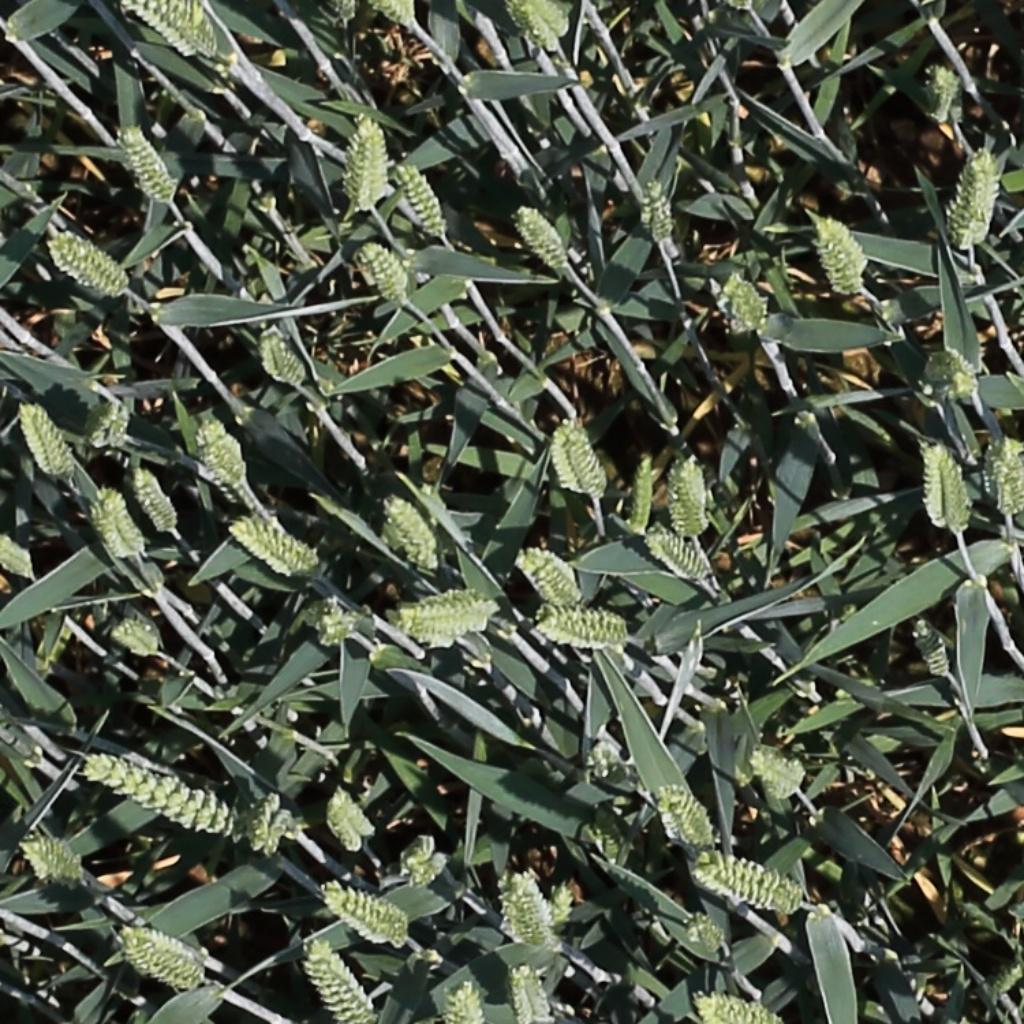0-0: (95, 757, 241, 839), (518, 551, 619, 648), (126, 0, 238, 68), (122, 929, 218, 994), (307, 937, 374, 1024), (197, 416, 260, 505), (549, 407, 608, 501), (393, 152, 451, 241), (118, 118, 177, 204), (230, 520, 316, 574), (51, 233, 128, 293), (925, 440, 973, 536), (697, 866, 801, 910), (514, 200, 576, 273), (509, 869, 560, 956), (660, 783, 720, 856), (16, 397, 66, 483), (357, 234, 415, 308), (324, 888, 408, 939), (379, 496, 439, 567), (813, 215, 866, 294), (128, 461, 181, 537), (93, 488, 145, 564), (963, 146, 998, 252), (950, 146, 984, 252), (722, 266, 772, 337), (671, 453, 712, 539), (258, 324, 309, 391), (352, 110, 386, 210), (648, 529, 711, 581), (912, 613, 957, 685), (506, 963, 558, 1024), (331, 781, 374, 853), (84, 391, 138, 448), (629, 447, 659, 540), (534, 617, 627, 647), (750, 750, 808, 798), (520, 0, 573, 52), (24, 842, 84, 886), (253, 784, 287, 859), (697, 993, 776, 1024), (928, 57, 962, 126), (645, 172, 675, 248), (996, 432, 1022, 518), (0, 529, 38, 581), (942, 339, 980, 391), (688, 912, 727, 958), (550, 873, 581, 930), (406, 853, 451, 892), (111, 622, 159, 656), (988, 959, 1024, 1002), (401, 830, 445, 865), (454, 973, 483, 1024), (379, 0, 419, 31)
